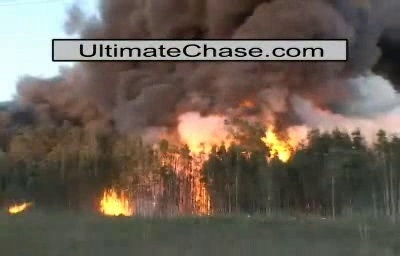fire: (149, 96, 312, 216), (260, 122, 311, 162), (97, 184, 134, 216), (6, 198, 33, 214)
